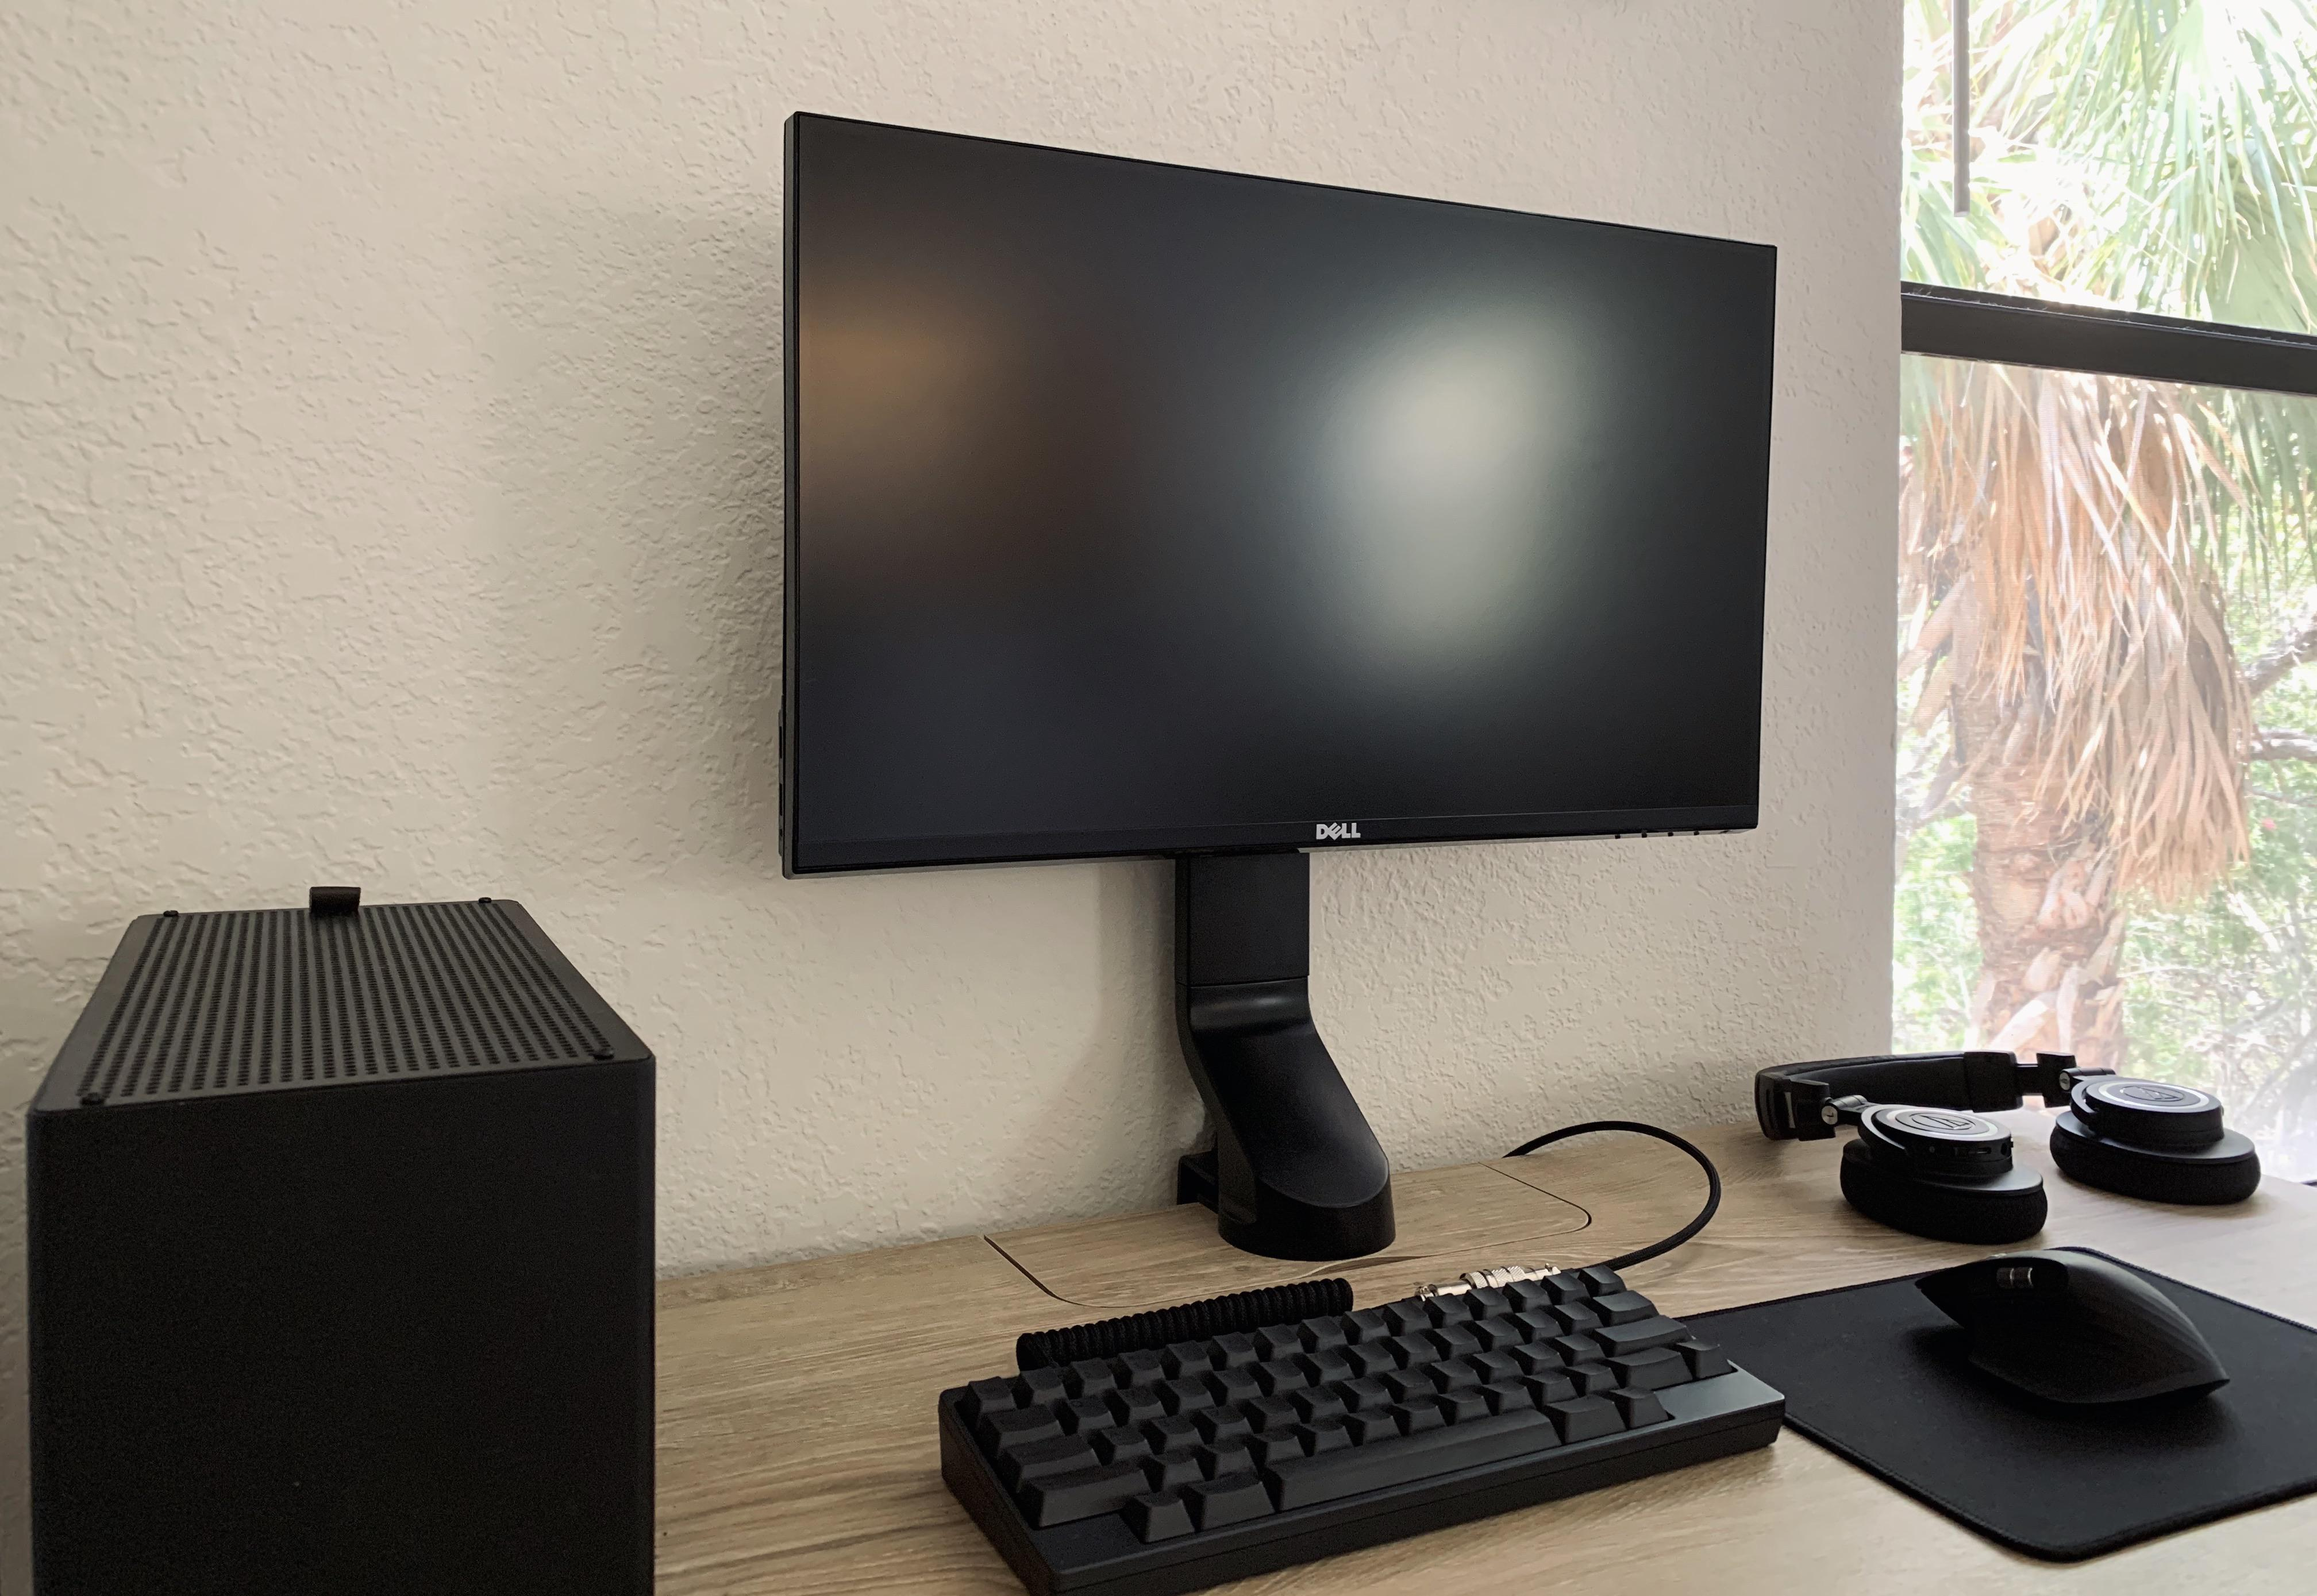Desk (Generic): (35, 1087, 2289, 1571)
Desktop (Generic): (18, 841, 650, 1585)
Headphones: (1738, 1010, 2278, 1219)
Keyboard (Generic): (924, 1299, 1808, 1554)
Monitor (Landscape): (755, 118, 1768, 845)
Monitor Arm: (1090, 859, 1454, 1249)
Mouse (Ergonomic): (1877, 1237, 2241, 1446)
Mousepad (Generic): (1664, 1246, 2292, 1527)
